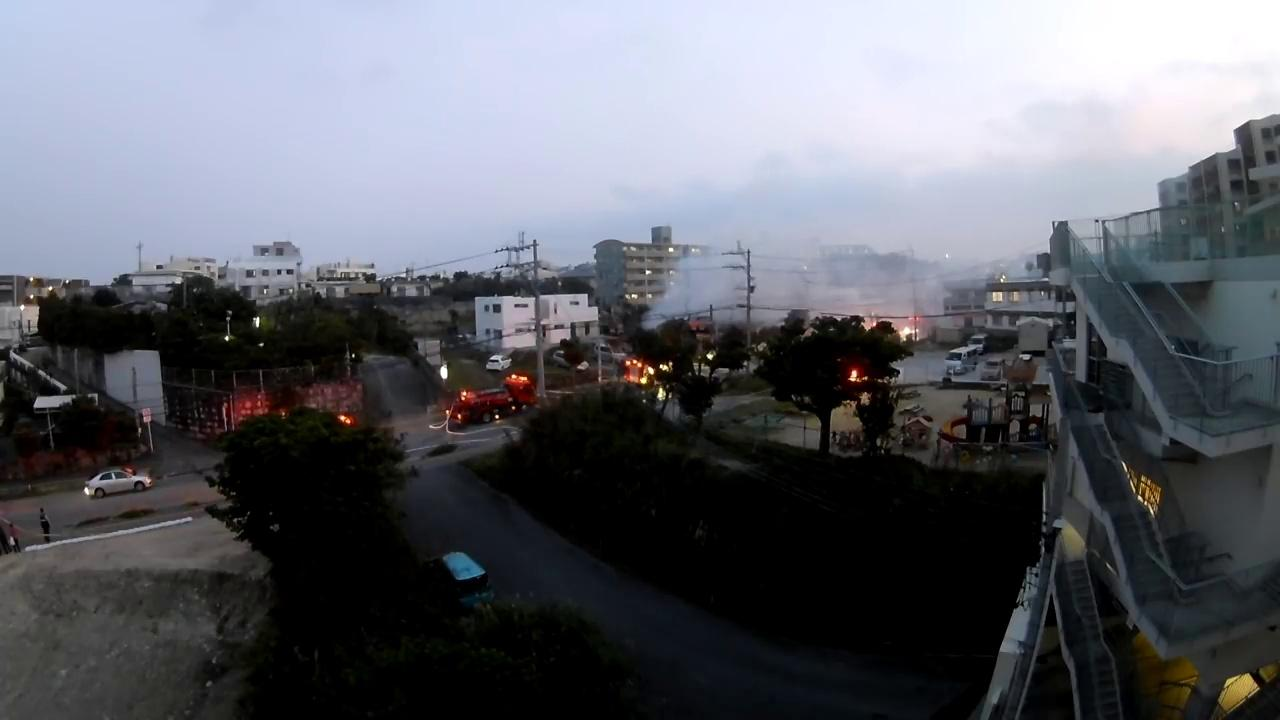smoke: (684, 260, 886, 304)
